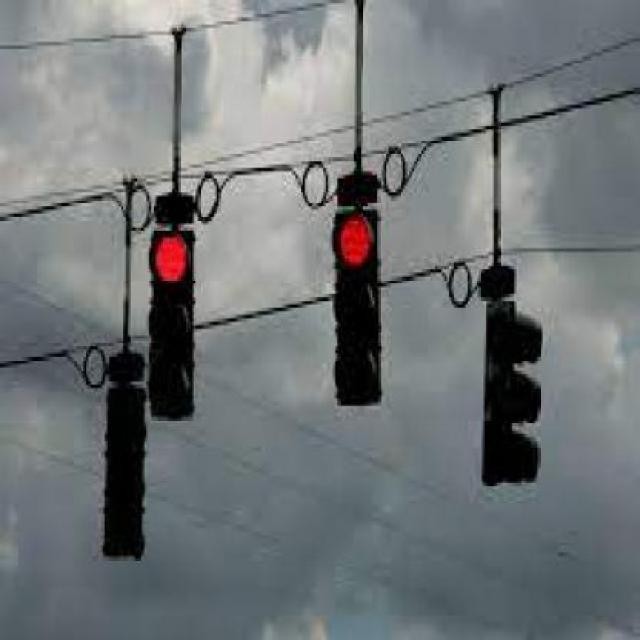red_light: (328, 198, 383, 410), (150, 233, 193, 414)
